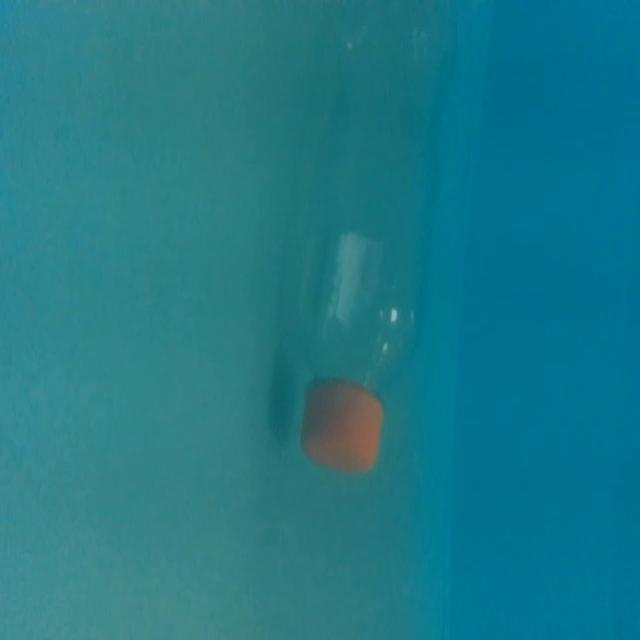plastic bottle: (286, 7, 461, 473)
